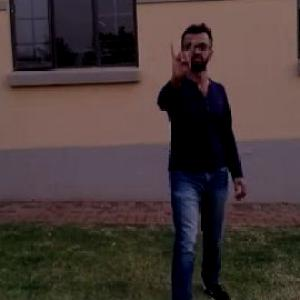takeoff-hand: (164, 32, 199, 77)
